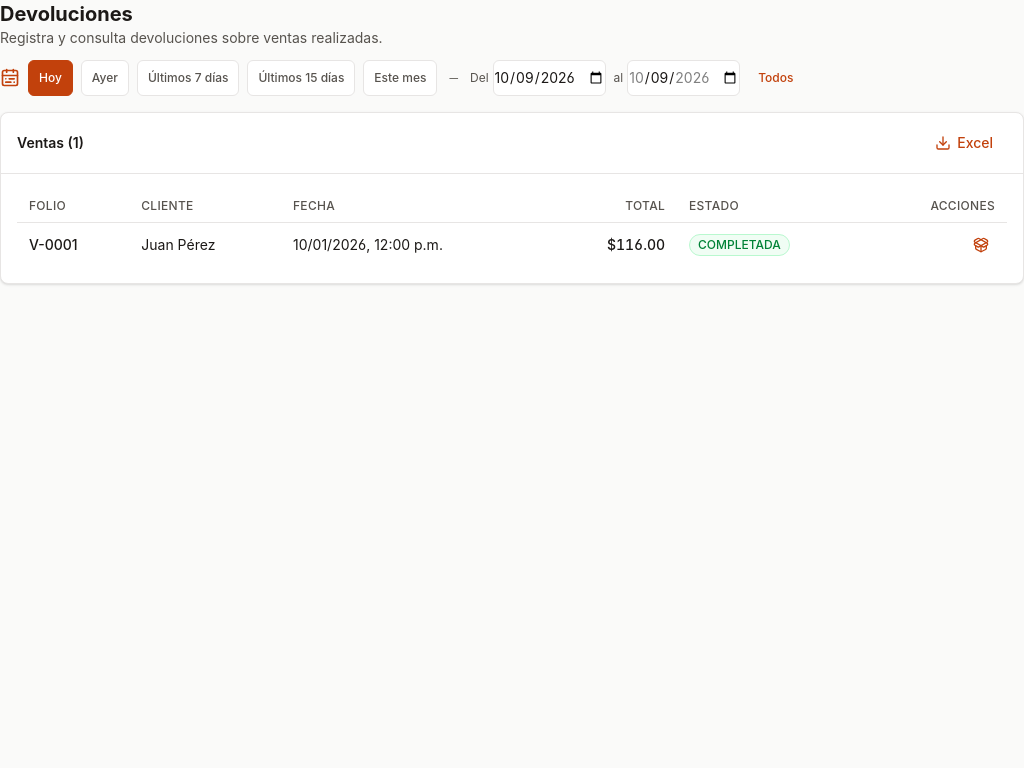
it: DevolucionesPage (profundización) › lista las devoluciones previas con forma desconocida
Step 1. Click the button named "Devoluciones de V-0001" → (981, 245), box [967, 231, 995, 259]
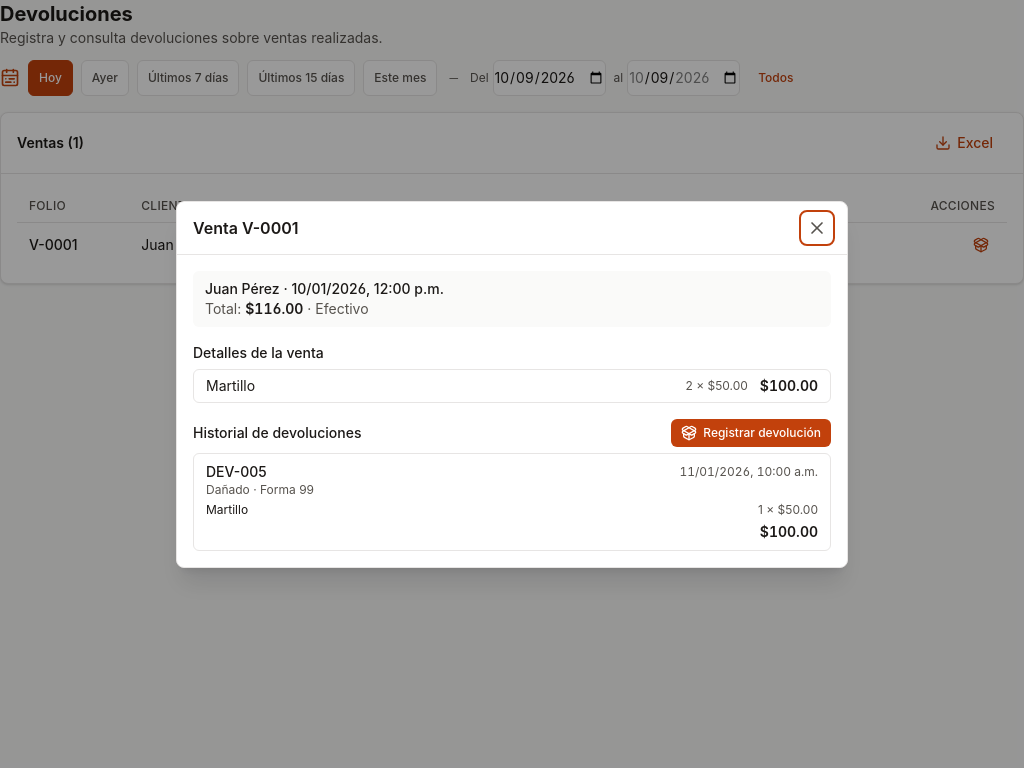
Check: the text "DEV-005" is shown, box [206, 462, 267, 482]
Check: the text "Dañado · Forma 99" is shown, box [206, 482, 314, 496]
